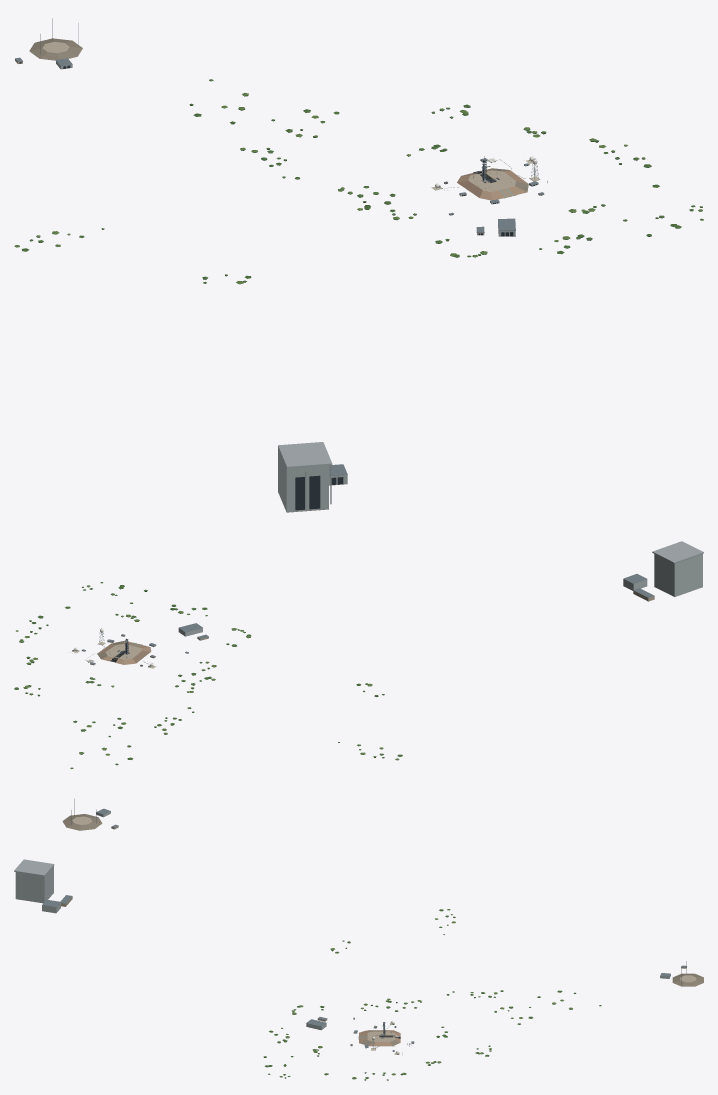
The model's file is kennedy_launch_area.glb.
3 views of the same model, one above another, from view 1: azimuth 30°, elevation 25°; view 2: azimuth 150°, elevation 25°; view 3: azimuth 270°, elevation 25° (orthographic). The views are drawn at different scales.
Parts seen in each view (by area): view 1: Assembly, integration and distant pads, Faceted coastal scrub, Sloped pad mound and open trench; view 2: Assembly, integration and distant pads, Faceted coastal scrub, Sloped pad mound and open trench; view 3: Assembly, integration and distant pads, Faceted coastal scrub, Sloped pad mound and open trench.
Boxes of the visible parts, <box> form: Assembly, integration and distant pads: <box>15,18,515,512</box>; Faceted coastal scrub: <box>14,79,703,284</box>; Sloped pad mound and open trench: <box>457,168,528,200</box>; Assembly, integration and distant pads: <box>62,541,703,830</box>; Faceted coastal scrub: <box>14,582,402,768</box>; Sloped pad mound and open trench: <box>97,640,151,664</box>; Assembly, integration and distant pads: <box>14,859,703,1030</box>; Faceted coastal scrub: <box>263,909,601,1080</box>; Sloped pad mound and open trench: <box>358,1030,400,1046</box>.
Bounding box in the file's own units: 2174 × 153 × 3295.
Materials: 2 (1 with a texture image).
